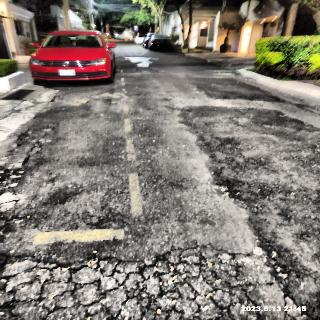alligator-crack: (12, 248, 274, 320)
pothole: (33, 226, 138, 246)
